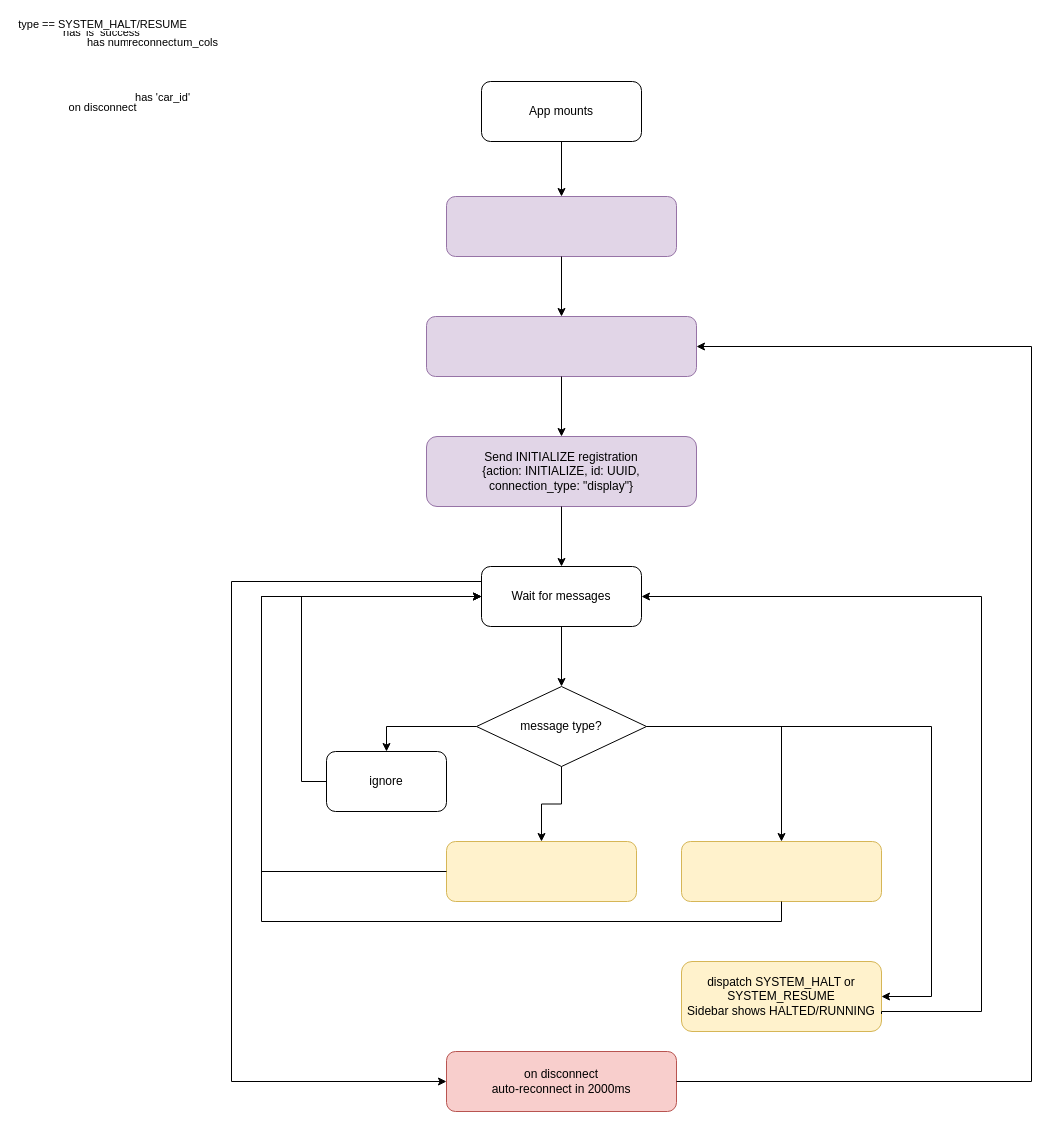
Image size: 1057x1129. Some labels were removed from this diagram. Here are the shapes that lost their labels. From the top down, the centre of each, then its label:
At [561,226]: "WebsocketService created (generates UUID client id)".
At [561,346]: "Connect to WebSocket (VITE_WS_URL, default ws://localhost:8765)".
At [541,871]: "dispatch SET_GRID BirdsEyeView renders grid".
At [781,871]: "dispatch NEW_POSITION BirdsEyeView renders car + arrow".
